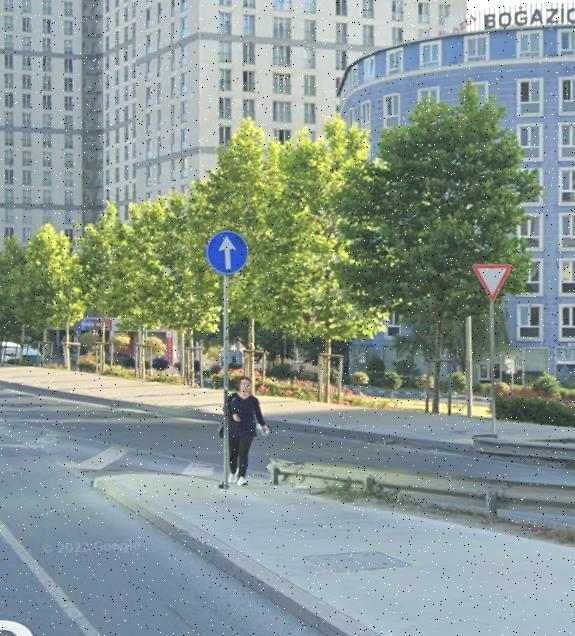forward: (208, 232, 249, 271)
